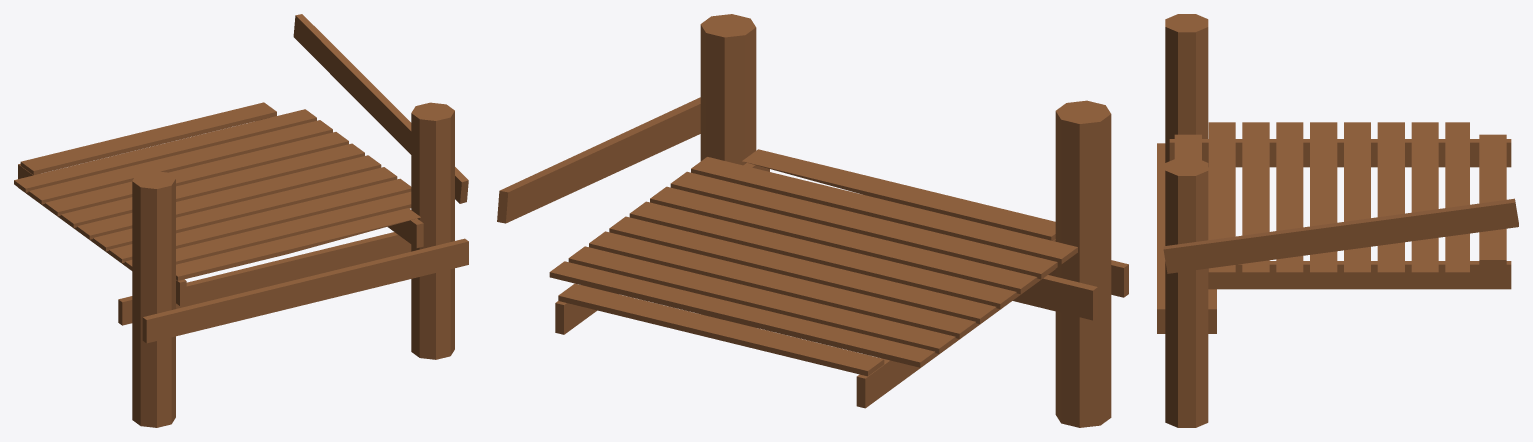
File: Barrier Dock Attach 6.fbx
3 views of the same model, side by side, from view 1: azimuth 30°, elevation 25°; view 2: azimuth 150°, elevation 25°; view 3: azimuth 270°, elevation 25° (orthographic). The views are drawn at different scales.
Parts seen in each view (by area): view 1: Barrier Dock Attach 6; view 2: Barrier Dock Attach 6; view 3: Barrier Dock Attach 6.
Part boxes in pixels (x1,y1,x2,y2): Barrier Dock Attach 6: (14, 14, 468, 427); Barrier Dock Attach 6: (497, 14, 1128, 427); Barrier Dock Attach 6: (1157, 14, 1518, 427).
Size of the model in its own units: 410 by 288 by 374.
